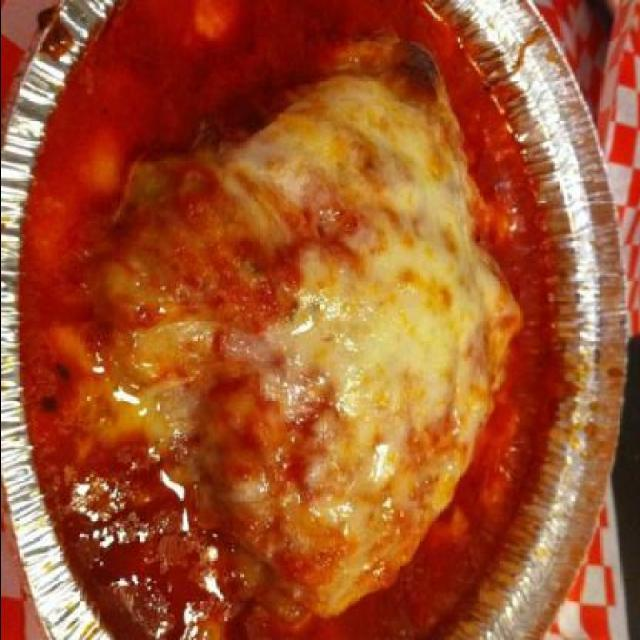Lasagna: (92, 24, 524, 604)
